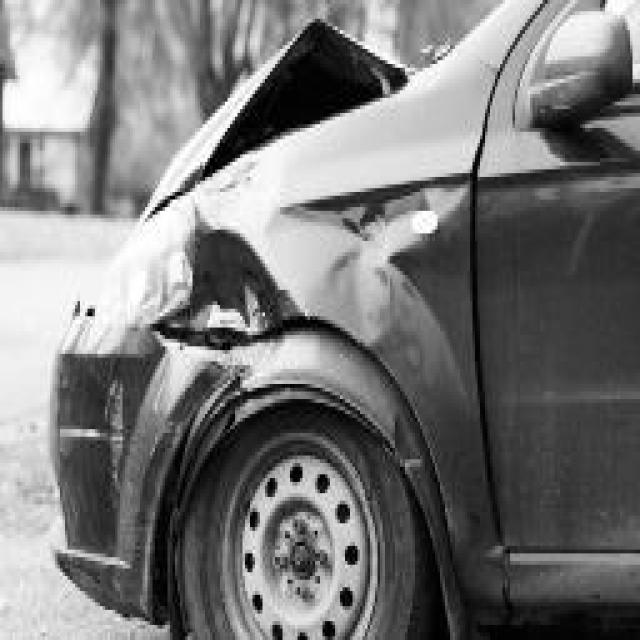Bonnet: (80, 15, 420, 181)
Bumper: (40, 320, 212, 621)
Fender: (192, 177, 458, 346)
